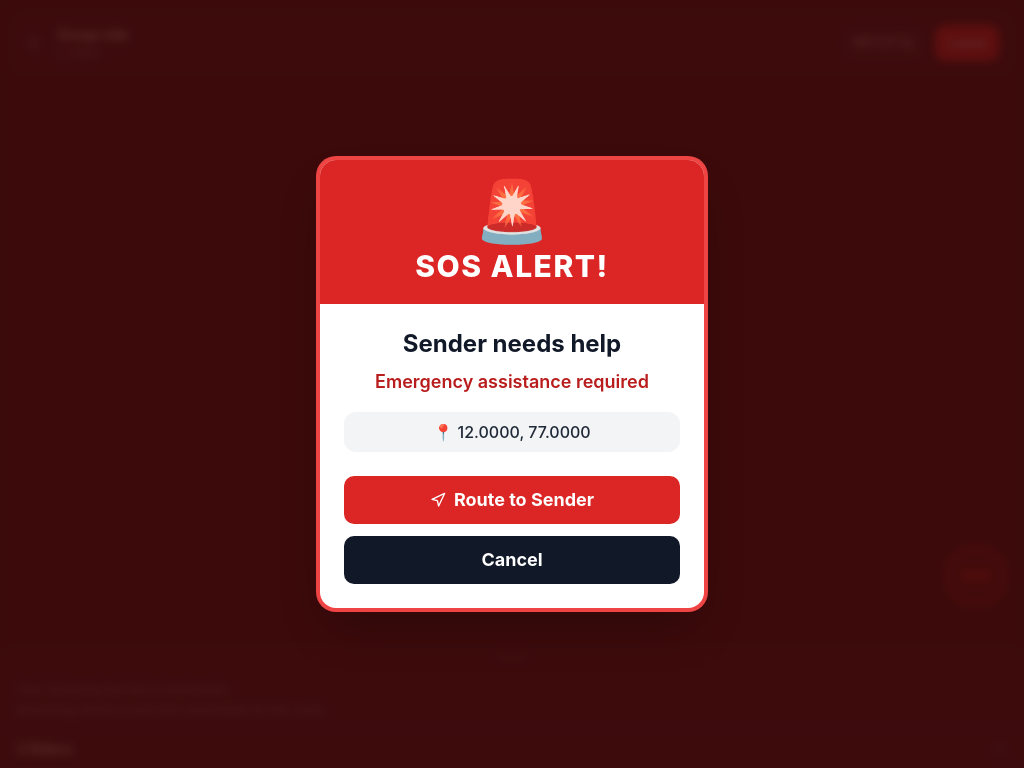
it: received SOS notifications › offers the route button after the popup is closed and falls back to a straight line
Click the button "Cancel".
click(512, 560)  # box [344, 536, 680, 584]
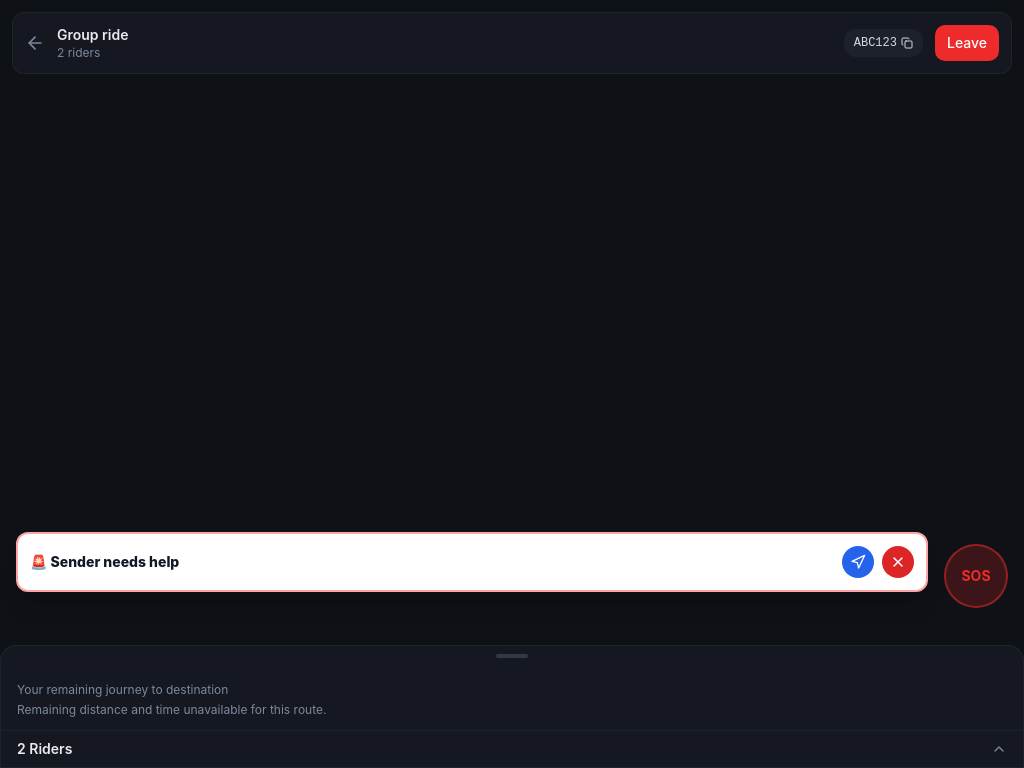
Click the button named "Route".
click(858, 562)  # box [842, 546, 874, 578]
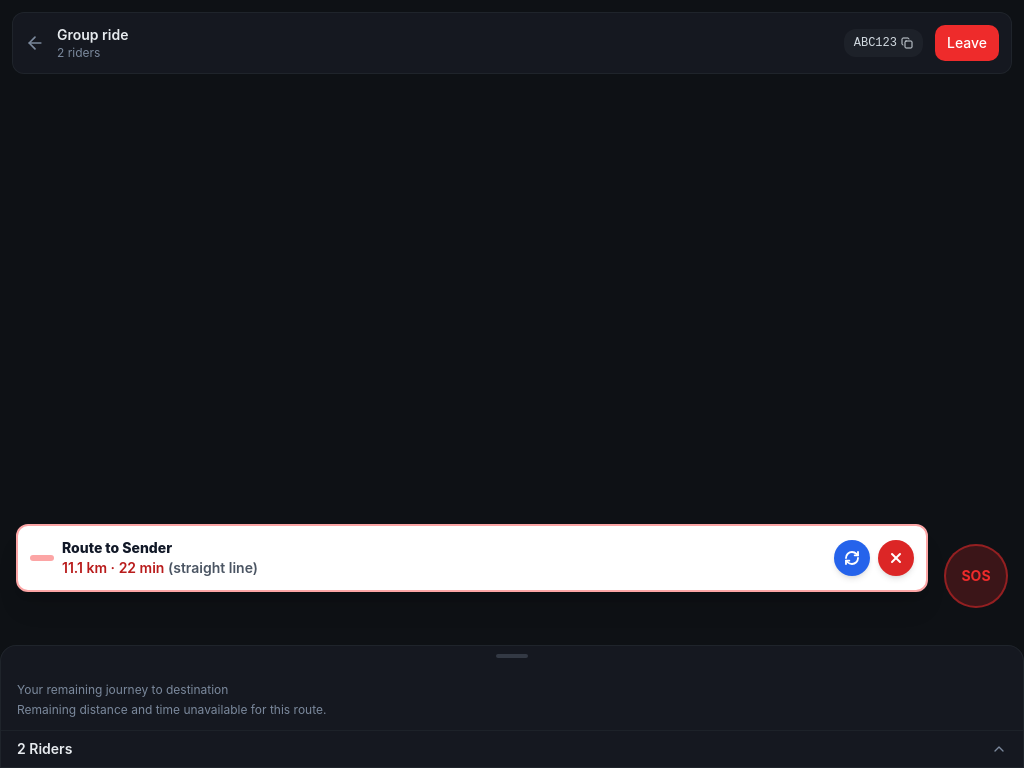
Now the element with test id "rescue-route-bar" shows "(straight line)", box [164, 559, 258, 576]
